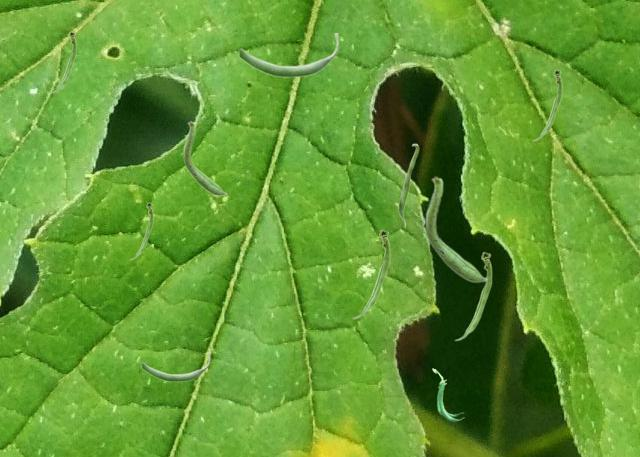french_bean: (425, 175, 487, 282), (238, 33, 338, 77), (352, 229, 389, 318), (454, 251, 491, 340), (183, 120, 226, 195), (532, 69, 561, 140), (141, 352, 209, 381), (398, 143, 418, 227), (432, 368, 463, 420), (50, 31, 75, 92), (129, 202, 152, 259)
